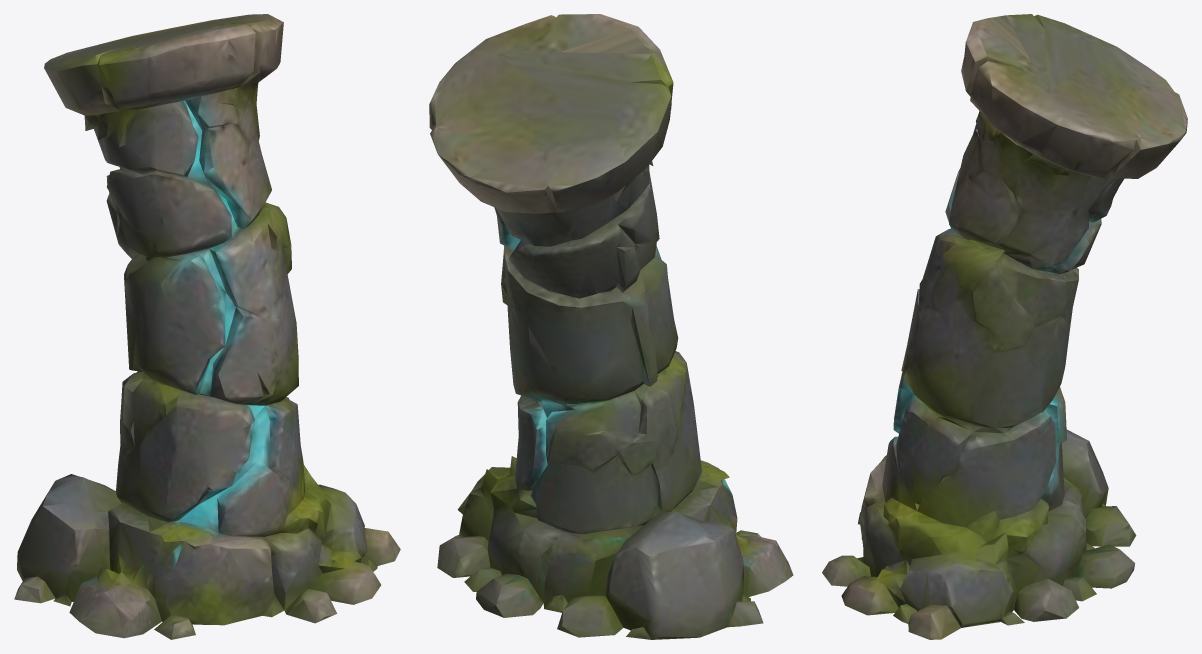
Rendered from columna_agrietada_2000.glb.
3 renders of one model, left to right at view 1: azimuth 30°, elevation 25°; view 2: azimuth 150°, elevation 25°; view 3: azimuth 270°, elevation 25°, orthographic. The views are drawn at different scales.
Parts seen in each view (by area): view 1: columna_agrietada_malla; view 2: columna_agrietada_malla; view 3: columna_agrietada_malla.
Boxes of the visible parts, <box> form: columna_agrietada_malla: <box>14,14,400,639</box>; columna_agrietada_malla: <box>429,14,793,639</box>; columna_agrietada_malla: <box>822,14,1187,639</box>.
Bounding box in the file's own units: 0.2503 × 0.3781 × 0.2367.
Materials: 1 (1 with a texture image).
